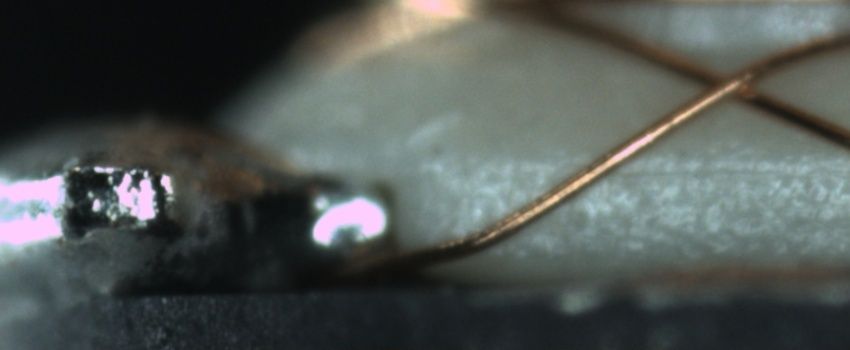CL: (677, 51, 774, 114)
DL: (476, 135, 850, 205)
